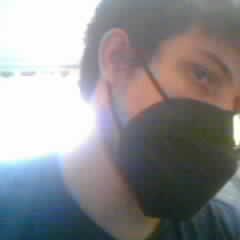with_mask: (128, 27, 240, 216)
